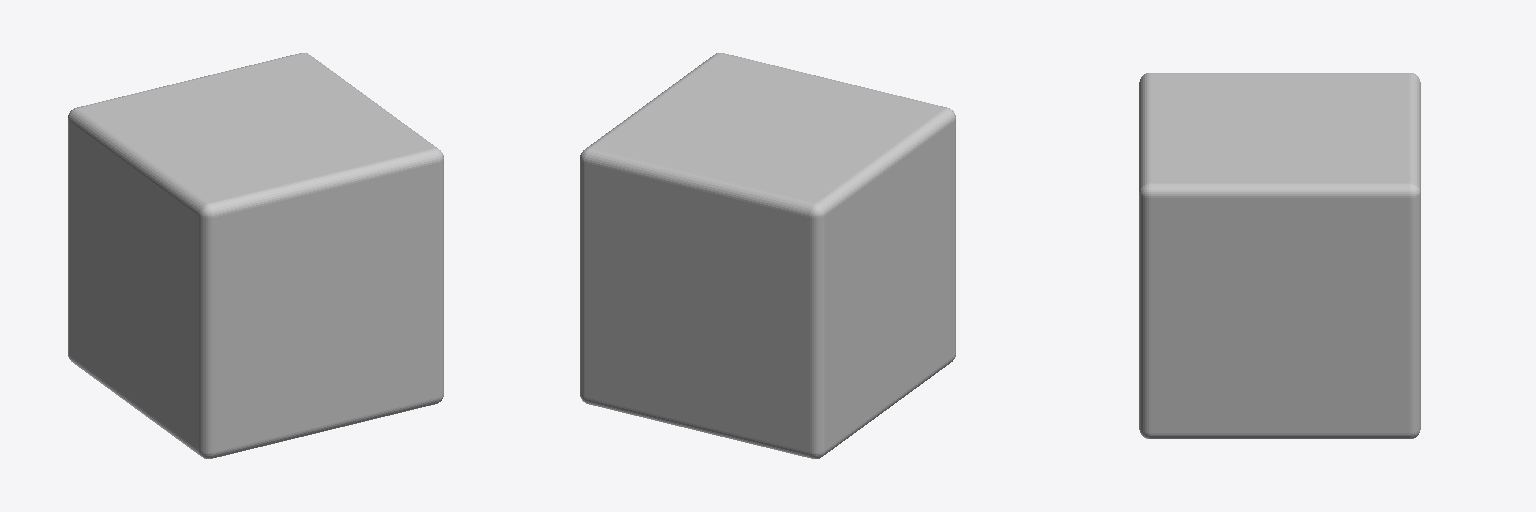
File: aCube.obj
The picture shows the model from 3 angles: view 1: azimuth 30°, elevation 25°; view 2: azimuth 150°, elevation 25°; view 3: azimuth 270°, elevation 25°; orthographic projection.
Visible parts, largest first — view 1: 000_Box; view 2: 000_Box; view 3: 000_Box.
Boxes of the visible parts, box(x1,y1,x2,y2) form: 000_Box: box(68, 53, 443, 458); 000_Box: box(580, 53, 955, 458); 000_Box: box(1139, 73, 1420, 438).
Size of the model in its own units: 100 by 100 by 100.